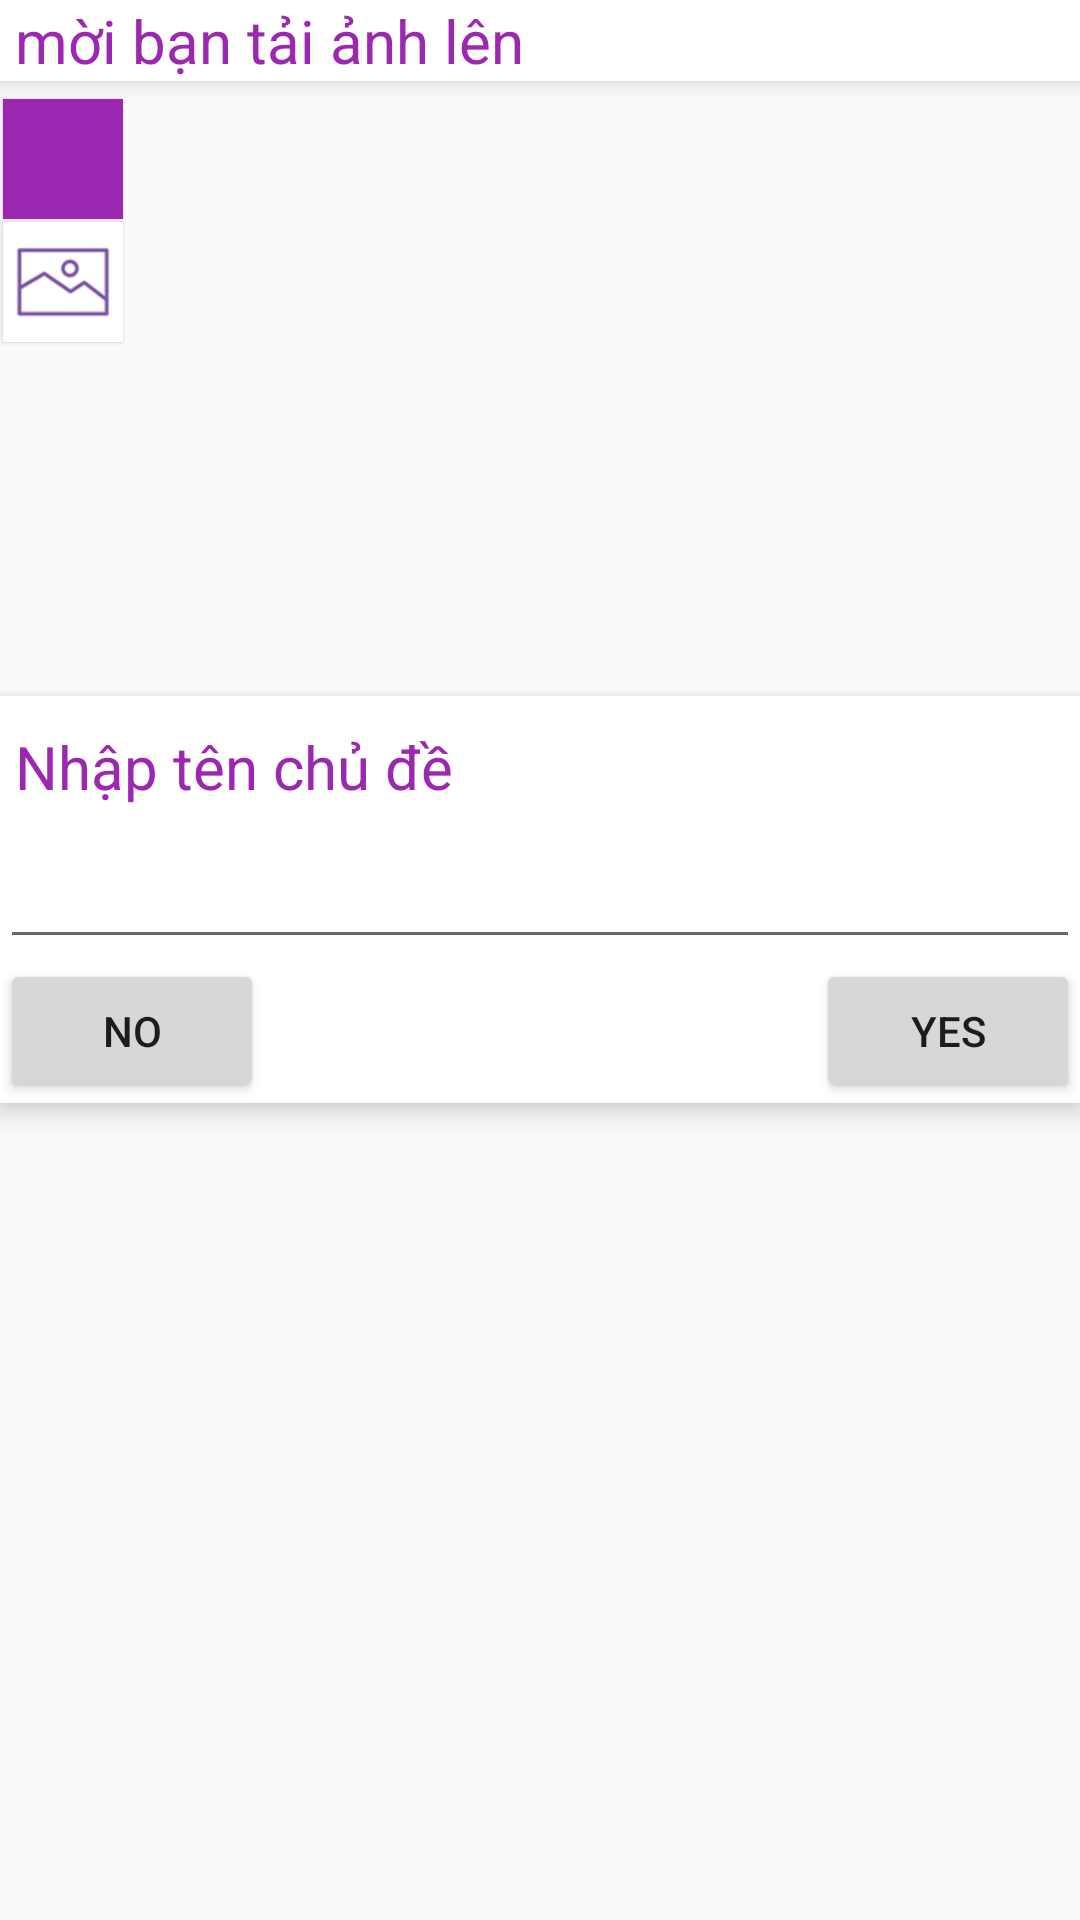

Locate icon controls on the screen. Image size 1080px×1920px, boxes as (x1, y1, x2, y2).
photo: (17, 248, 109, 317)
